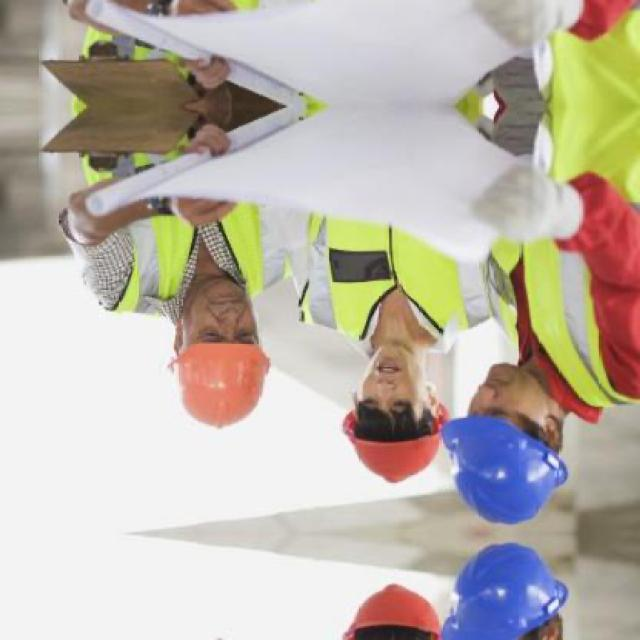con casco: (96, 223, 301, 480), (452, 340, 590, 514), (352, 346, 474, 507)
